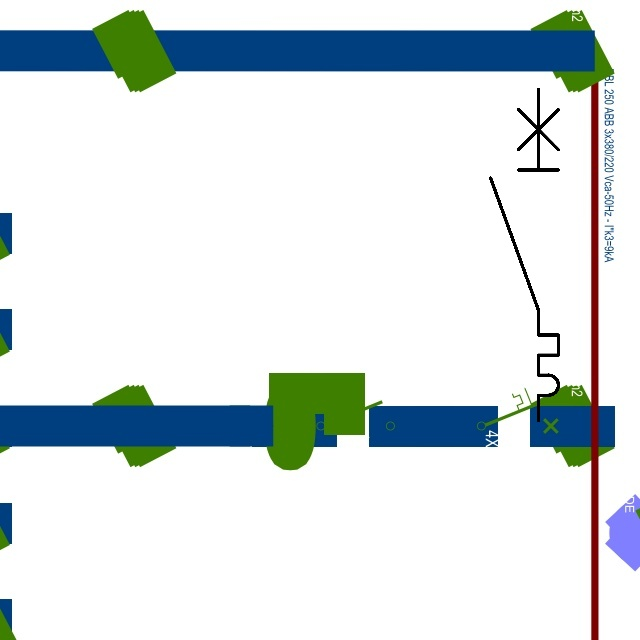interruptor_termomagnetico: (482, 81, 567, 429)
